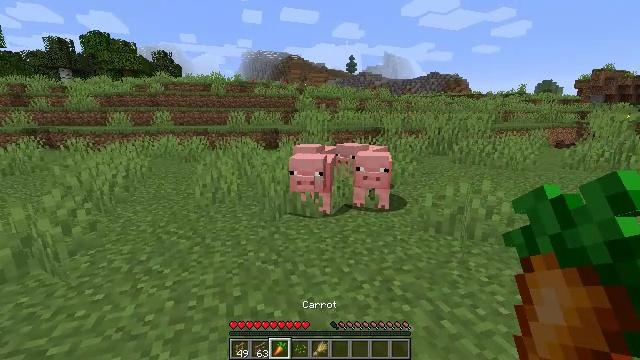pig: (290, 152, 334, 214), (354, 153, 391, 209), (336, 144, 386, 166), (295, 144, 335, 156)
